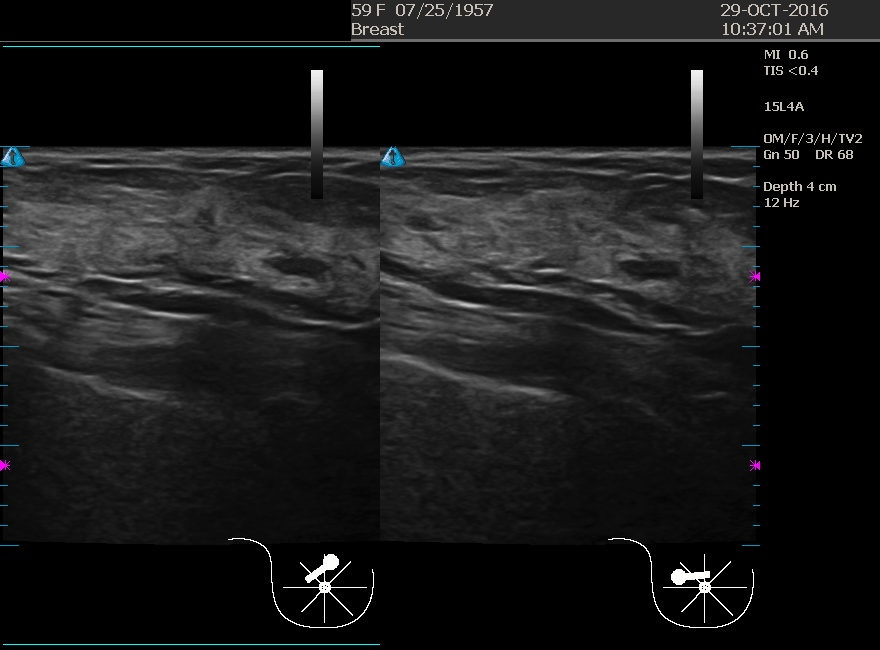BIRADS_2: (172, 210, 372, 410), (538, 212, 738, 412)
